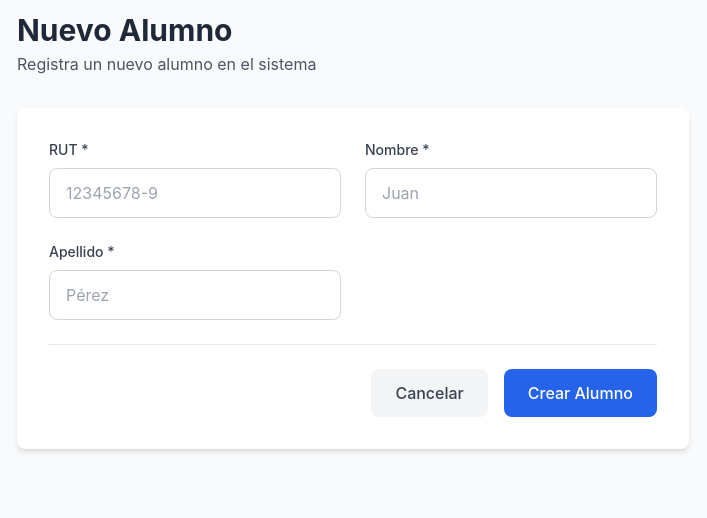
Test: AlumnoForm › debe mostrar errores de validación si los campos requeridos están vacíos
This screenshot has width=707, height=518.
Click the button "Crear Alumno" at point(580, 393), box [504,369,657,417]
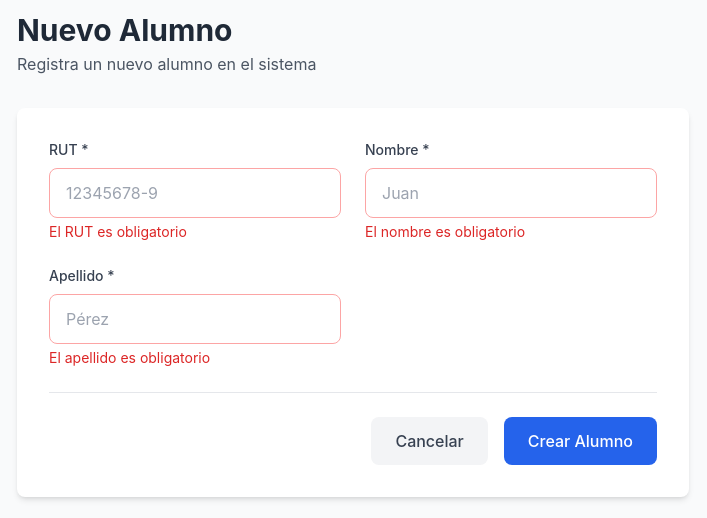
Result: the text "El RUT es obligatorio" is shown at [49,223,187,240]
Result: the text "El nombre es obligatorio" is shown at [365,223,525,240]
Result: the text "El apellido es obligatorio" is shown at [49,349,210,366]
